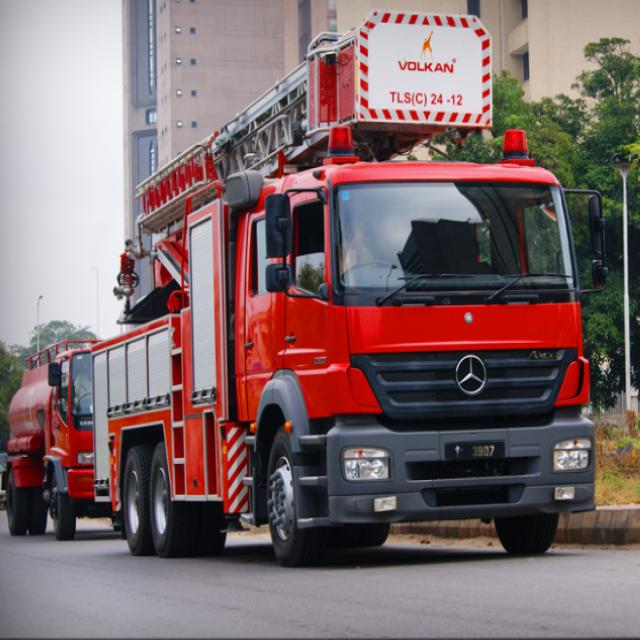fire brigade: (22, 96, 595, 550)
